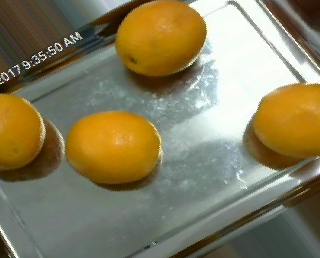Orange: (66, 110, 162, 184), (115, 1, 207, 77), (252, 81, 319, 157)
